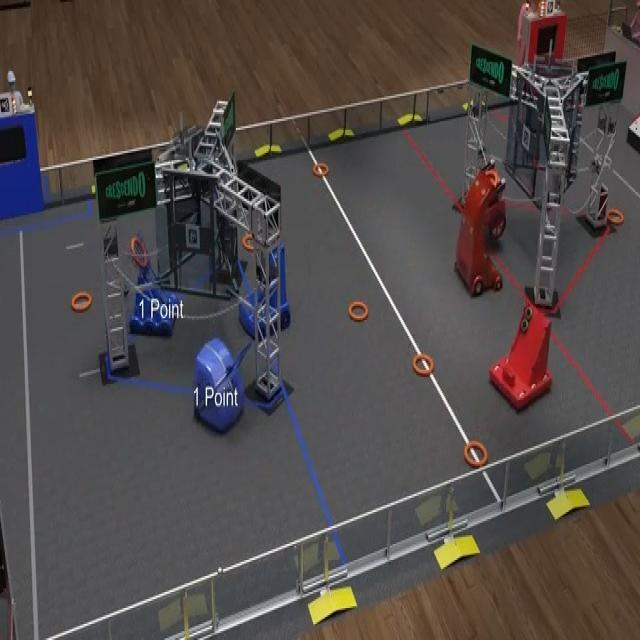notes: (464, 440, 492, 469), (345, 298, 371, 324), (68, 288, 94, 314), (411, 351, 435, 377), (310, 160, 330, 178), (607, 209, 623, 227), (243, 237, 253, 252)
